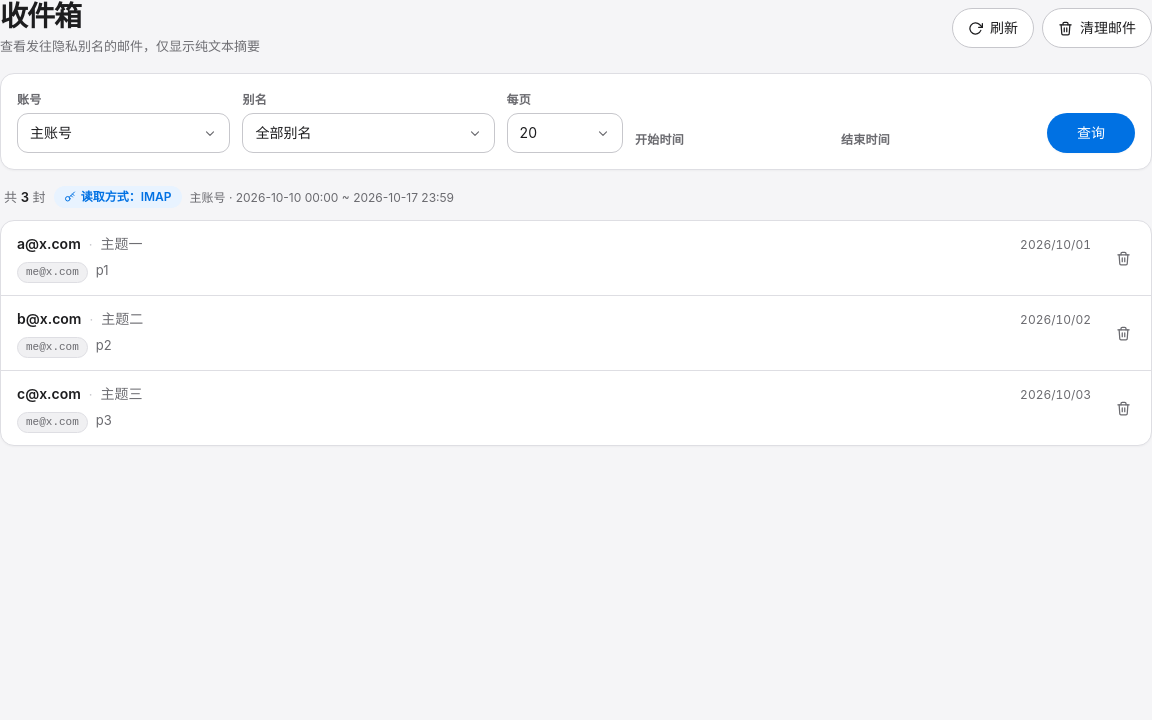
Scenario: InboxPage 批量清理 › 页头有「清理邮件」按钮, 打开对话框显示时间范围预设
Expected: the text "主题一" is shown, [100,233,142,256]
Click the button "清理邮件" at (1097, 28), box [1042,8,1151,48]
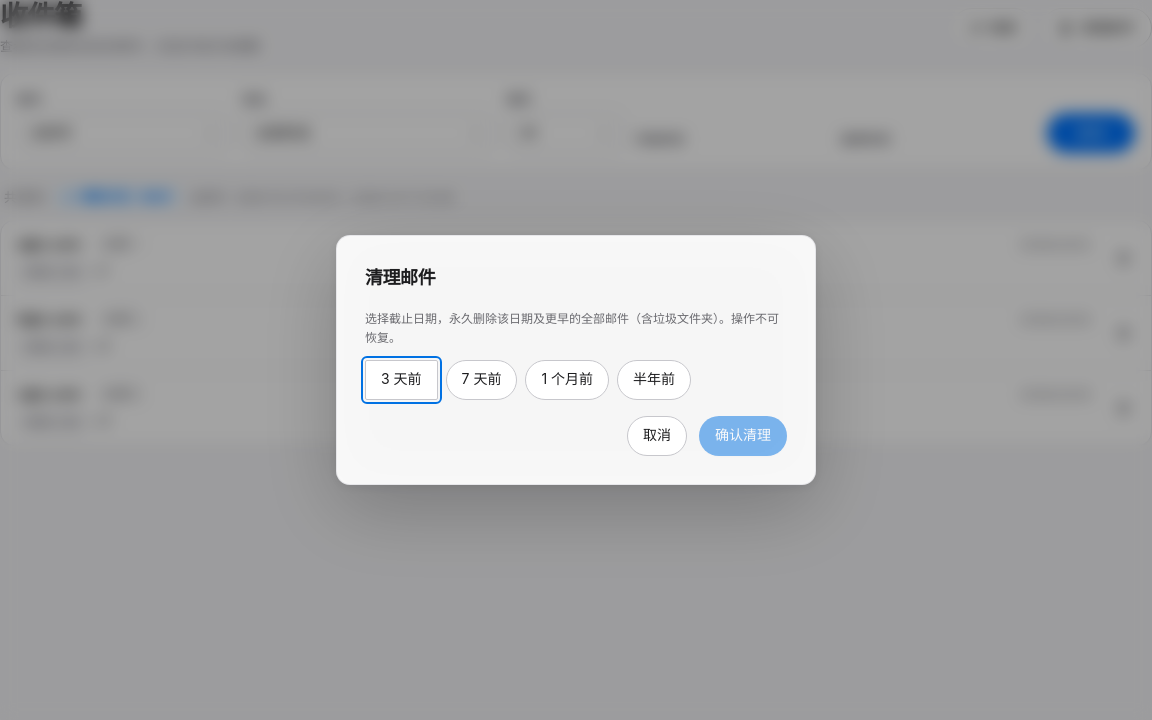
Now the button "3 天前" is shown, box [365,360,438,400]
Now the button "7 天前" is shown, box [446,360,518,400]
Now the button "1 个月前" is shown, box [526,360,609,400]
